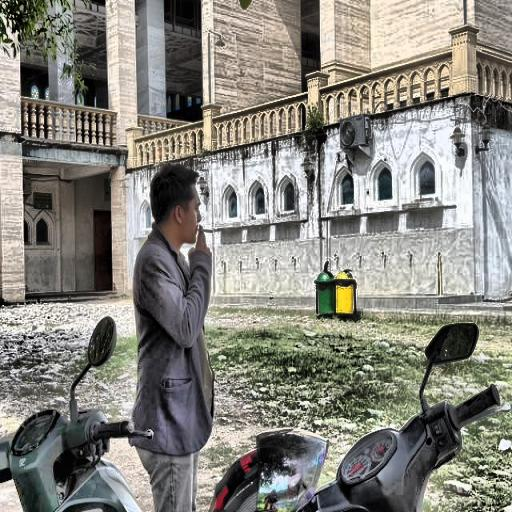Merokok: (196, 228, 216, 232)
Rokok: (157, 186, 209, 254)
